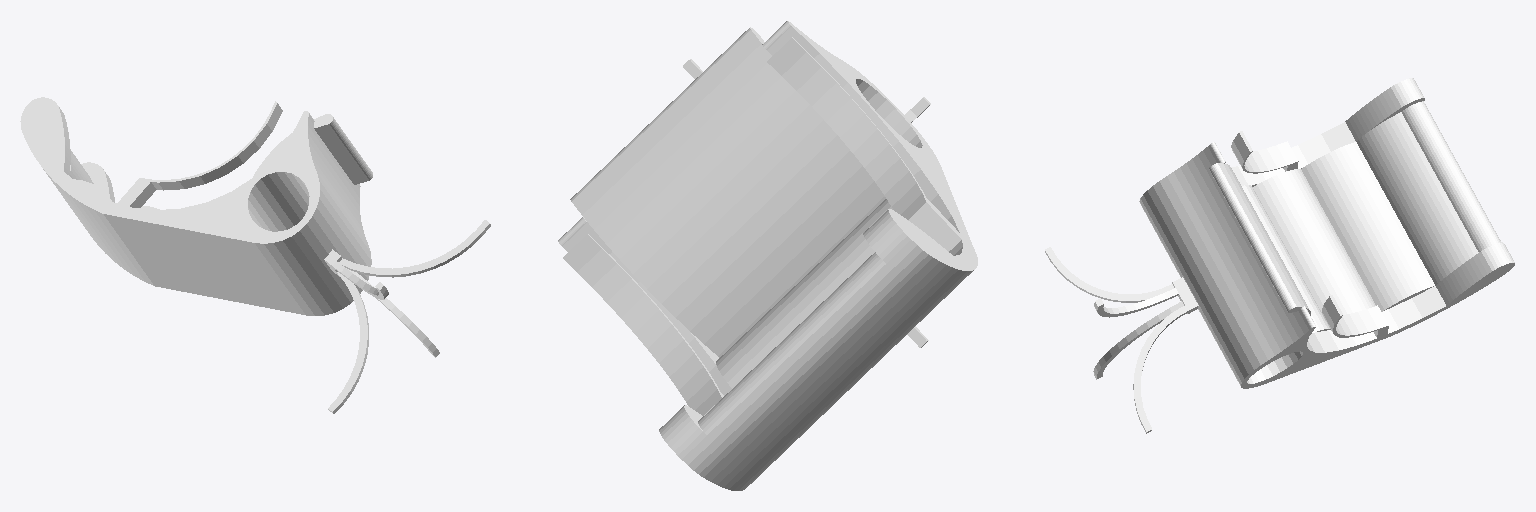
The robot description file, URDF, robot "chair_0892.urdf":
<?xml version="1.0" ?>
<robot name="chair_0892.urdf">
  <link name="baseLink">
    <contact>
      <lateral_friction value="1.0"/>
      <inertia_scaling value="1.0"/>
    </contact>
    <inertial>
      <origin rpy="0 0 0" xyz="-0.091804 0.026052 -0.051293"/>
       <mass value="59.167342"/>
       <inertia ixx="4.744330" ixy="1.781300" ixz="0.448942" iyy="4.227359" iyz="0.440705" izz="6.351876"/>
     </inertial>
    <visual>
      <origin rpy="0 0 0" xyz="0 0 0"/>
      <geometry>
				<mesh filename="chair_0892.obj" scale="1 1 1"/>
      </geometry>
       <material name="white">
        <color rgba="1 1 1 1"/>
      </material>
    </visual>
    <collision>
      <origin rpy="0 0 0" xyz="0 0 0"/>
      <geometry>
        <mesh filename="chair_0892_vhacd.obj" scale="1 1 1"/>
      </geometry>
    </collision>
  </link>
</robot>


--- What the picture shows (computed from the rendered views, not written in the file) ---
The picture shows the robot from 3 angles, left to right: view 1: azimuth 30°, elevation 25°; view 2: azimuth 150°, elevation 25°; view 3: azimuth 270°, elevation 25°; orthographic projection.
Model chair_0892.urdf with 1 links and 0 joints (none), rooted at baseLink, posed every joint at zero.
Visible links, largest first — view 1: baseLink; view 2: baseLink; view 3: baseLink.
Link boxes in pixels (box(x1,y1,x2,y2)): baseLink: box(20, 97, 490, 413); baseLink: box(558, 21, 977, 490); baseLink: box(1045, 78, 1514, 433).
Bounding box of the posed robot: 1.04 × 1.34 × 0.8022 m (x, y, z).
1 mesh visuals loaded from 1 distinct referenced files (1 OBJ).